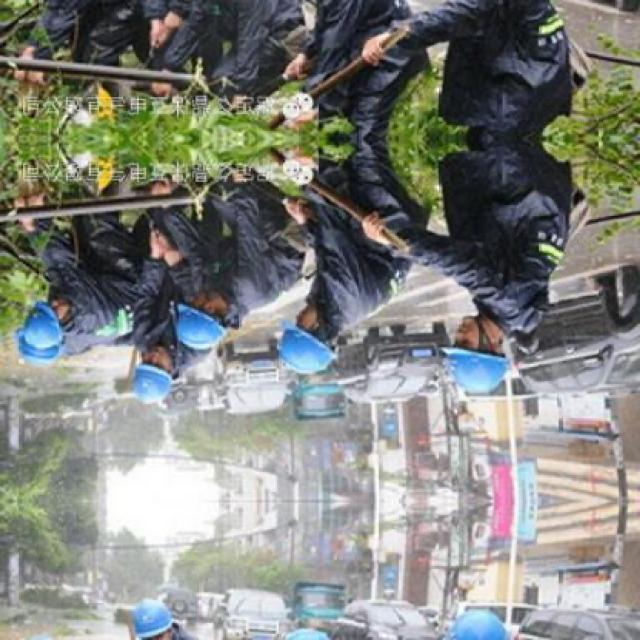con casco: (423, 289, 555, 404), (274, 306, 386, 402), (91, 336, 207, 426), (8, 282, 108, 376), (177, 277, 258, 356)
